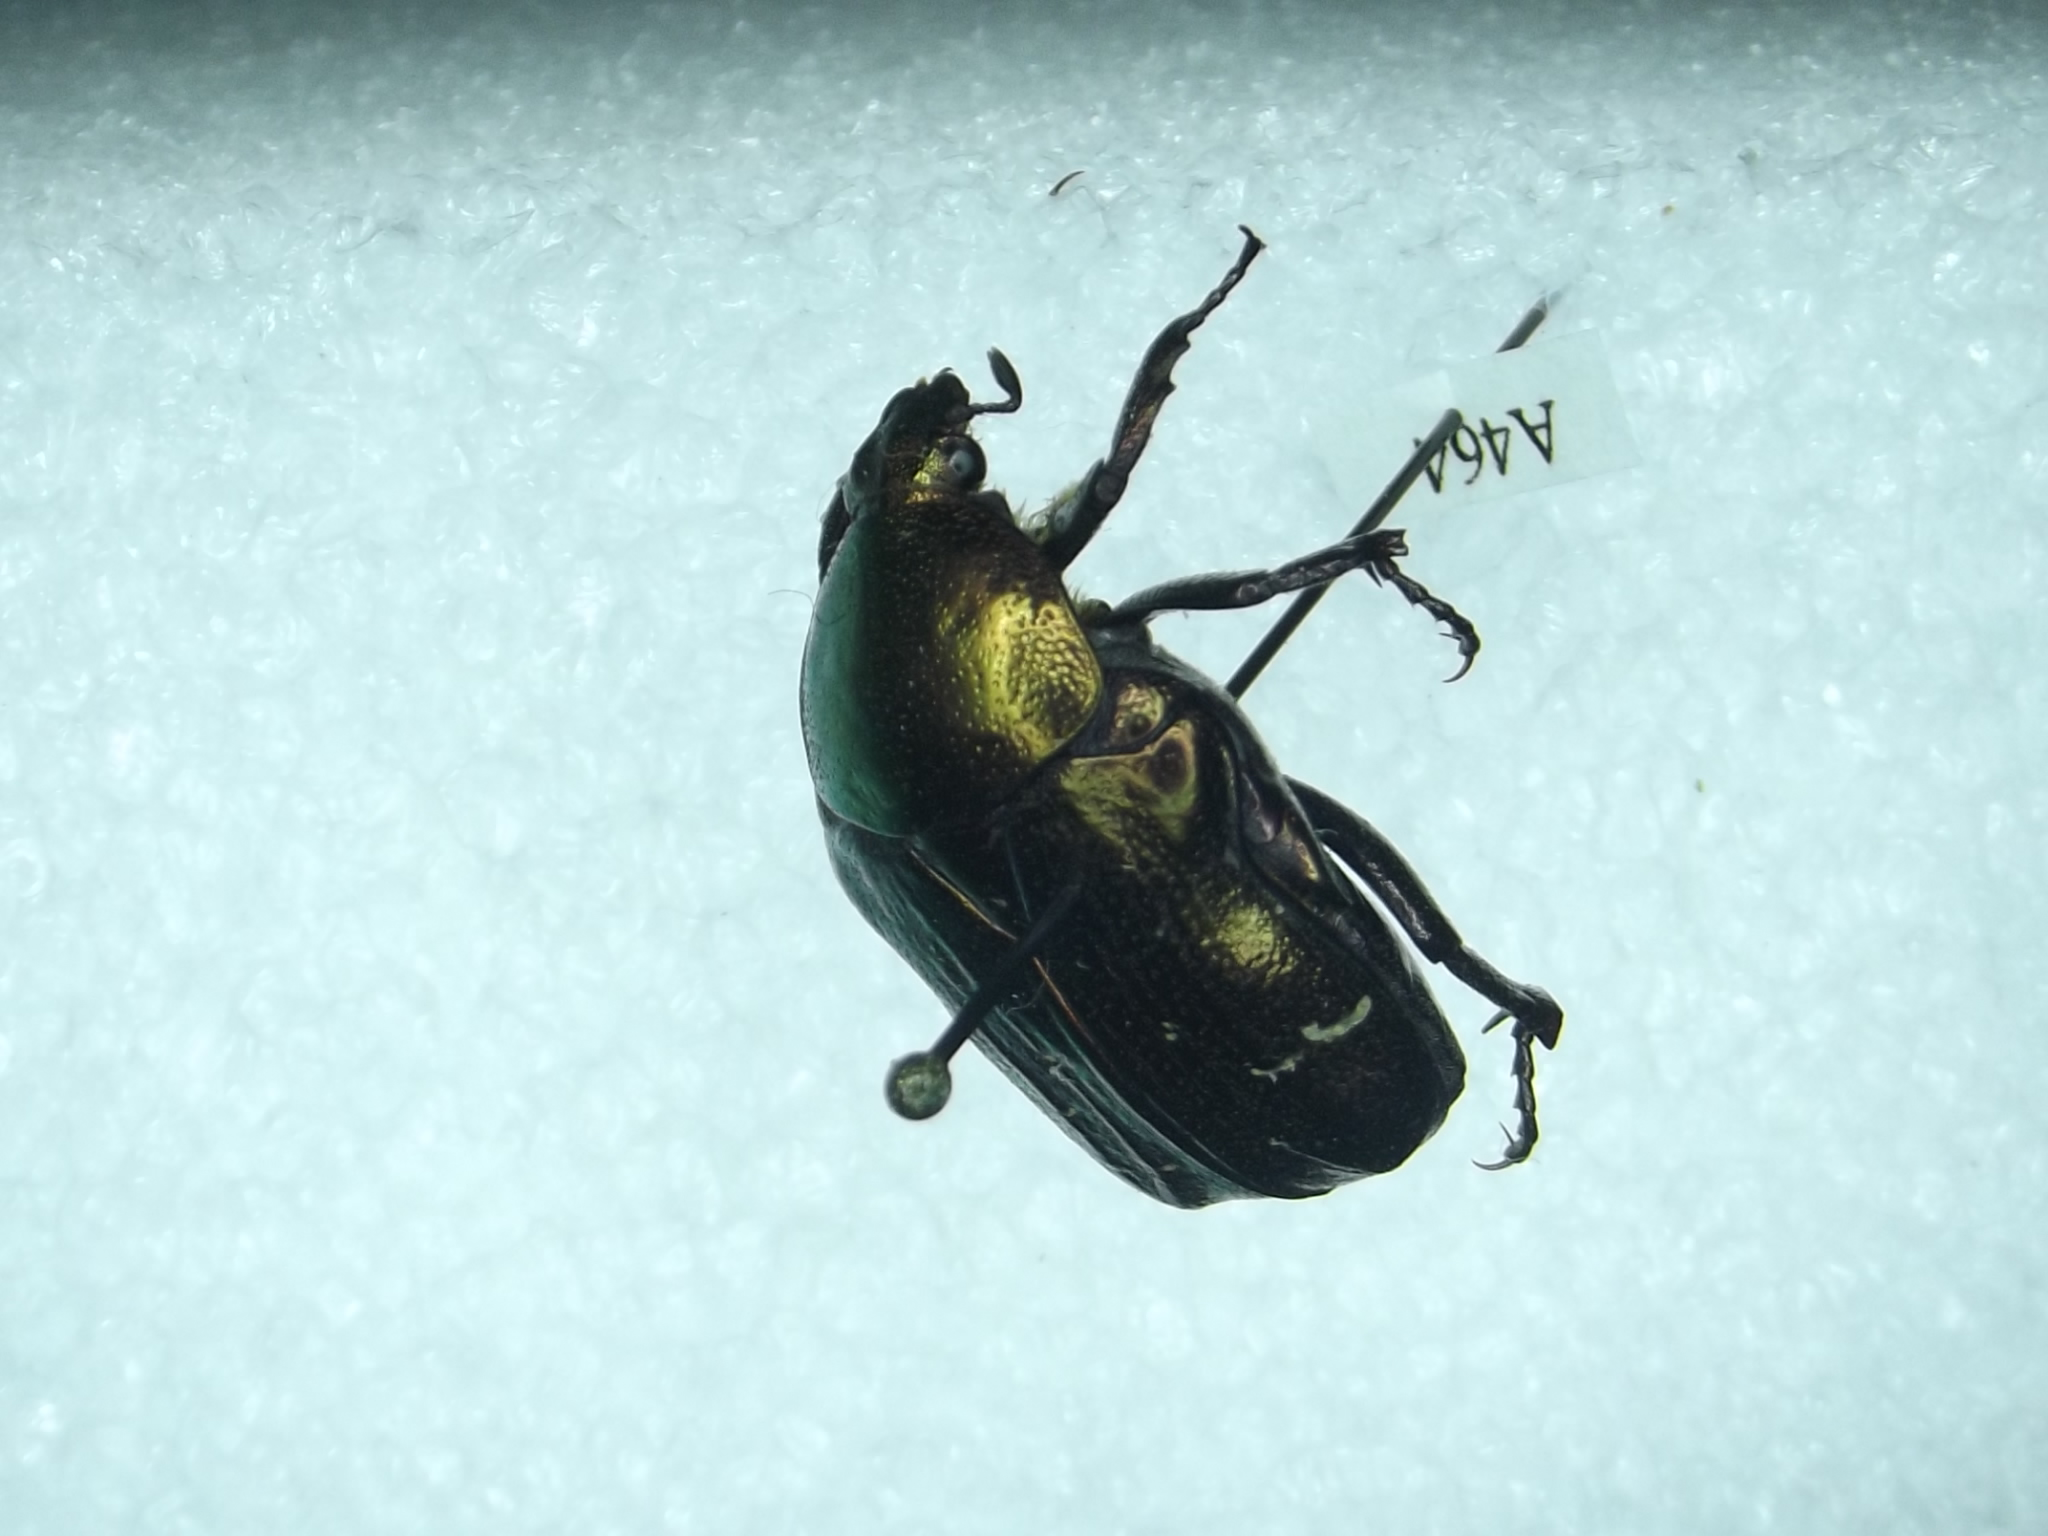Cetonia_kemali: (789, 207, 1567, 1234)
